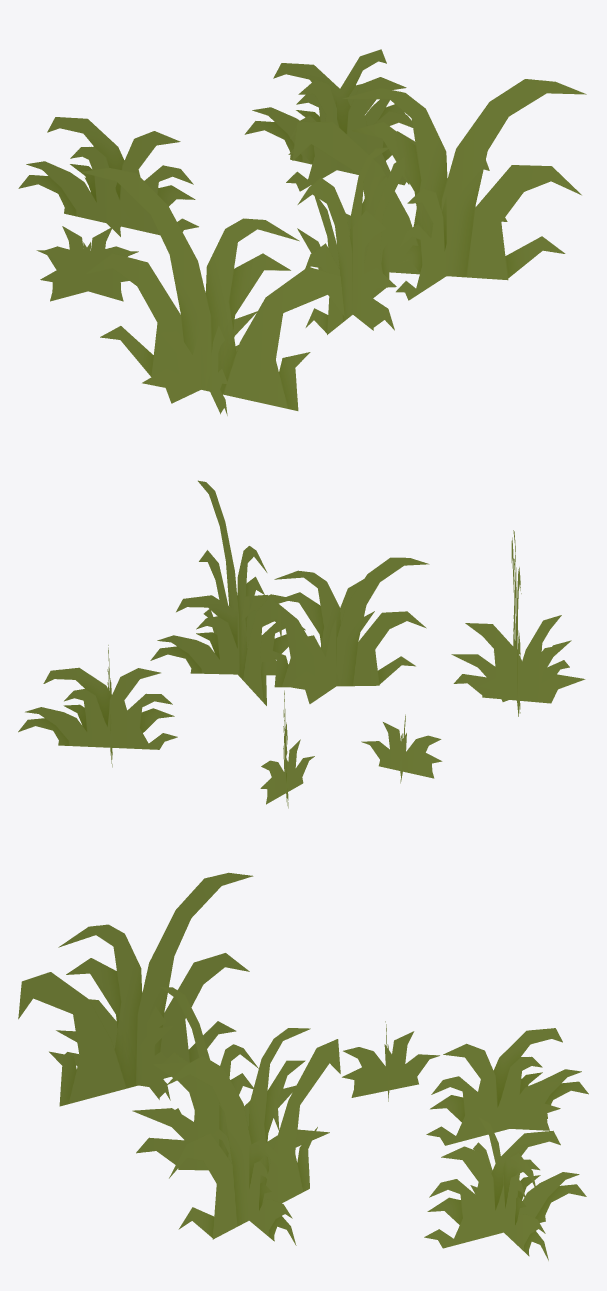
Rendered from SM_Env_Grass_04.fbx.
The picture shows the model from 3 angles, top to bottom: view 1: azimuth 30°, elevation 25°; view 2: azimuth 150°, elevation 25°; view 3: azimuth 270°, elevation 25°; orthographic projection. The views are drawn at different scales.
Parts seen in each view (by area): view 1: SM_Env_Grass_04_LOD0; view 2: SM_Env_Grass_04_LOD0; view 3: SM_Env_Grass_04_LOD0.
Boxes of the visible parts, x1,y1,x2,y2 form: SM_Env_Grass_04_LOD0: (18, 49, 586, 415); SM_Env_Grass_04_LOD0: (18, 480, 585, 808); SM_Env_Grass_04_LOD0: (18, 872, 588, 1260).
Size of what is drawn, in the model's own units: 123 by 48.9 by 130.
